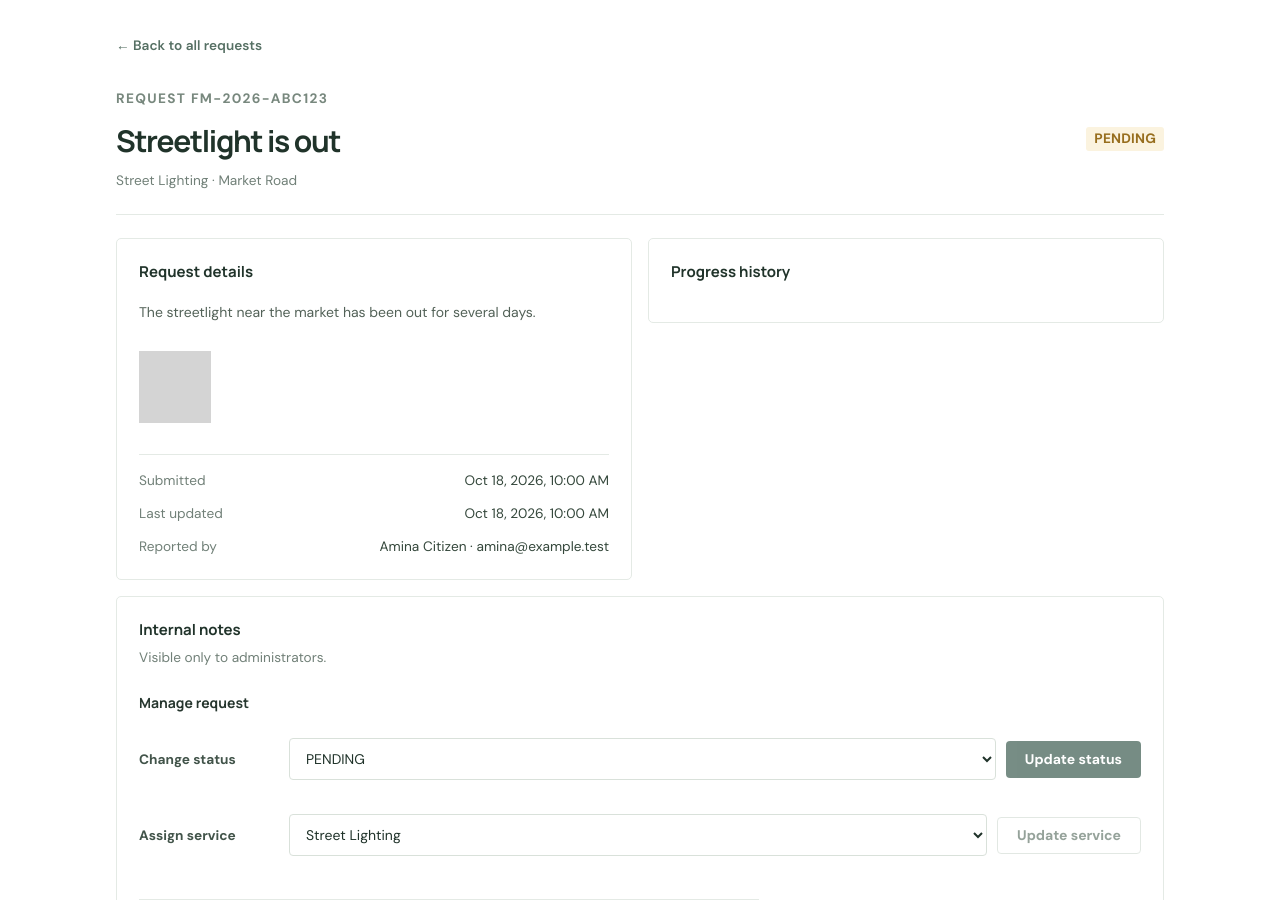
Test case: administrator request controls › blocks duplicate status updates and reports failures
Expected: the heading "Manage request" is shown, x1=139 y1=693 x2=249 y2=712
Select "In progress" in the dropdown labelled "Change status". click: x=642, y=759
box: x1=289 y1=738 x2=996 y2=780
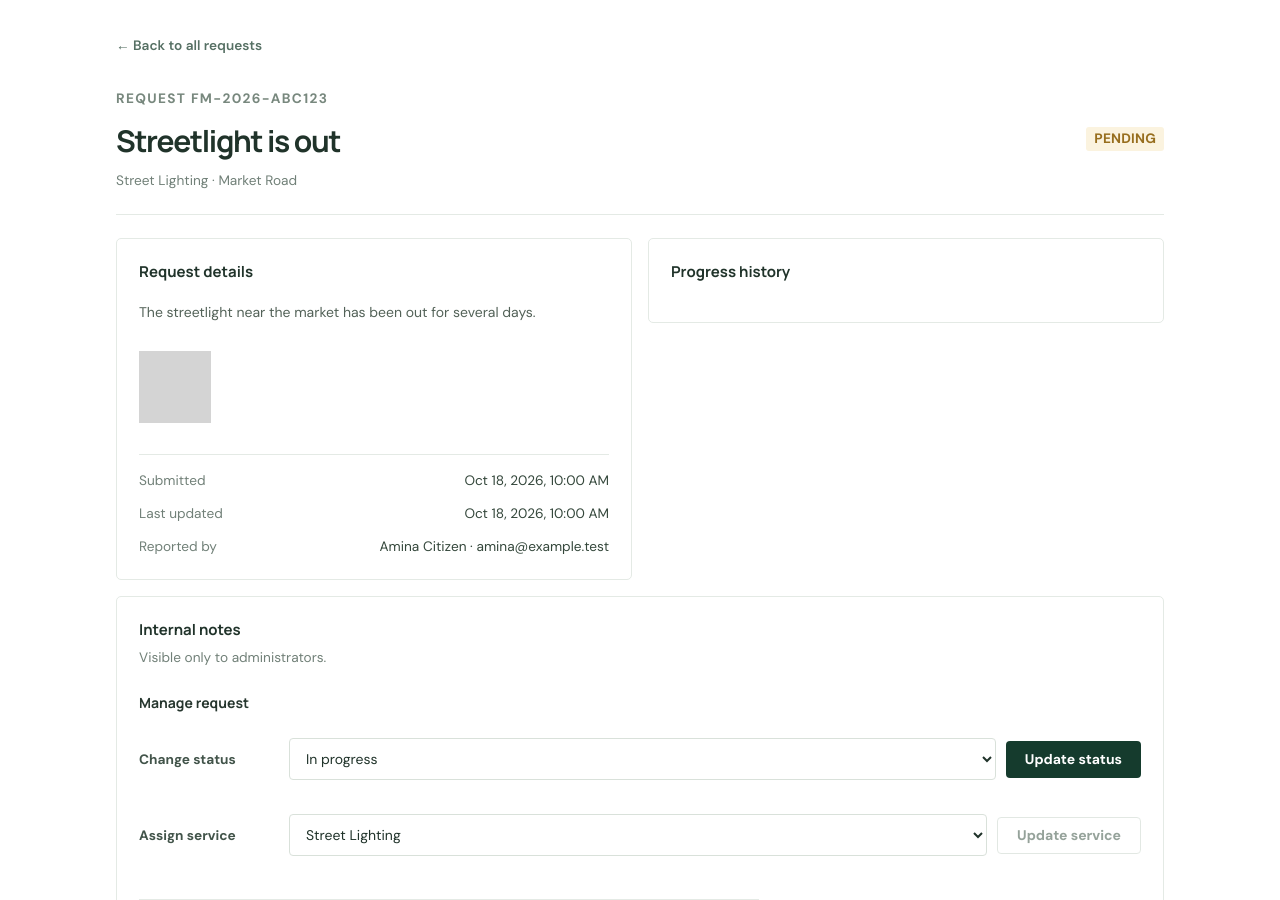
Click the button "Update status". click: x=1073, y=759
box: x1=1006 y1=741 x2=1141 y2=778
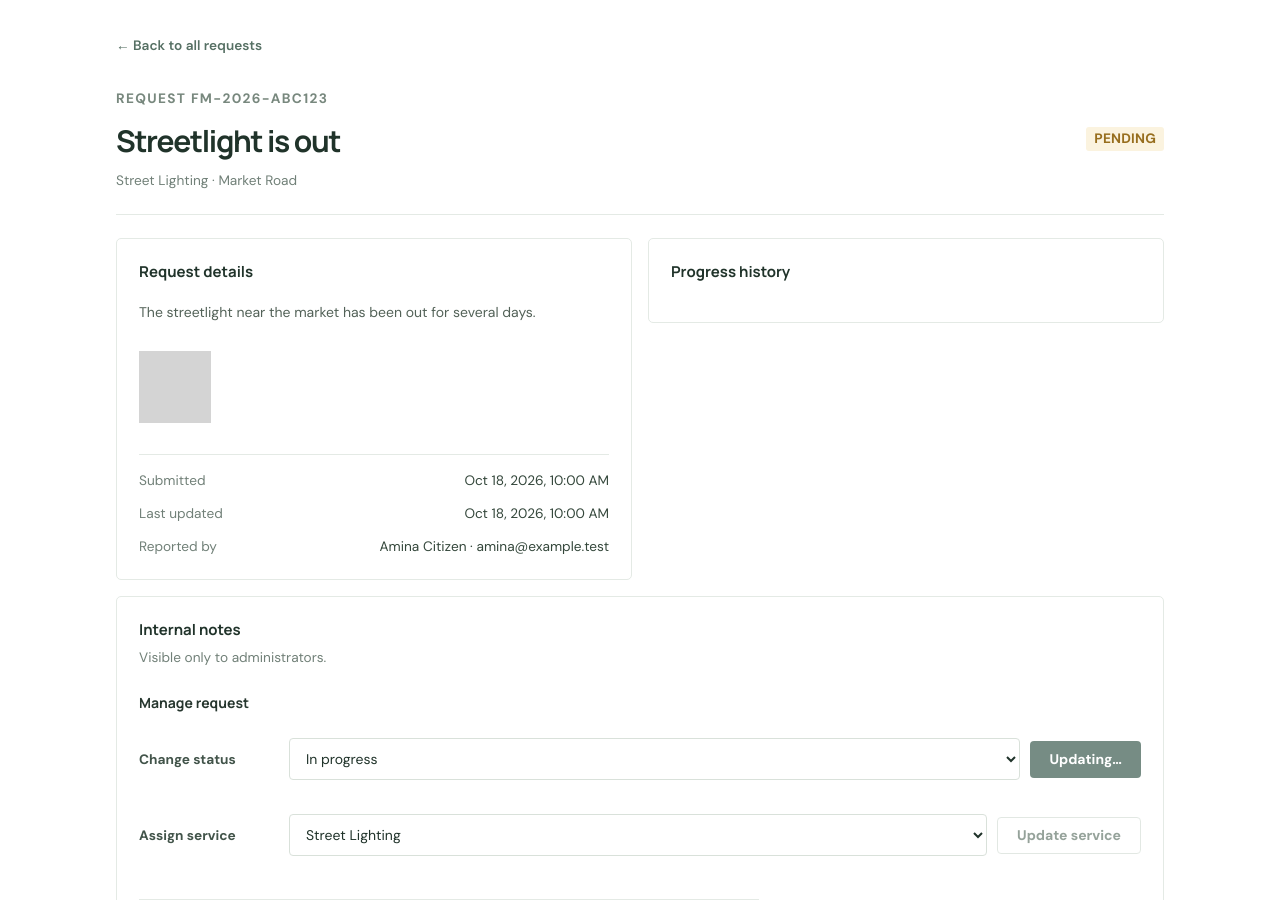
Click the button "Updating…". click: x=1086, y=759
box: x1=1030 y1=741 x2=1141 y2=778
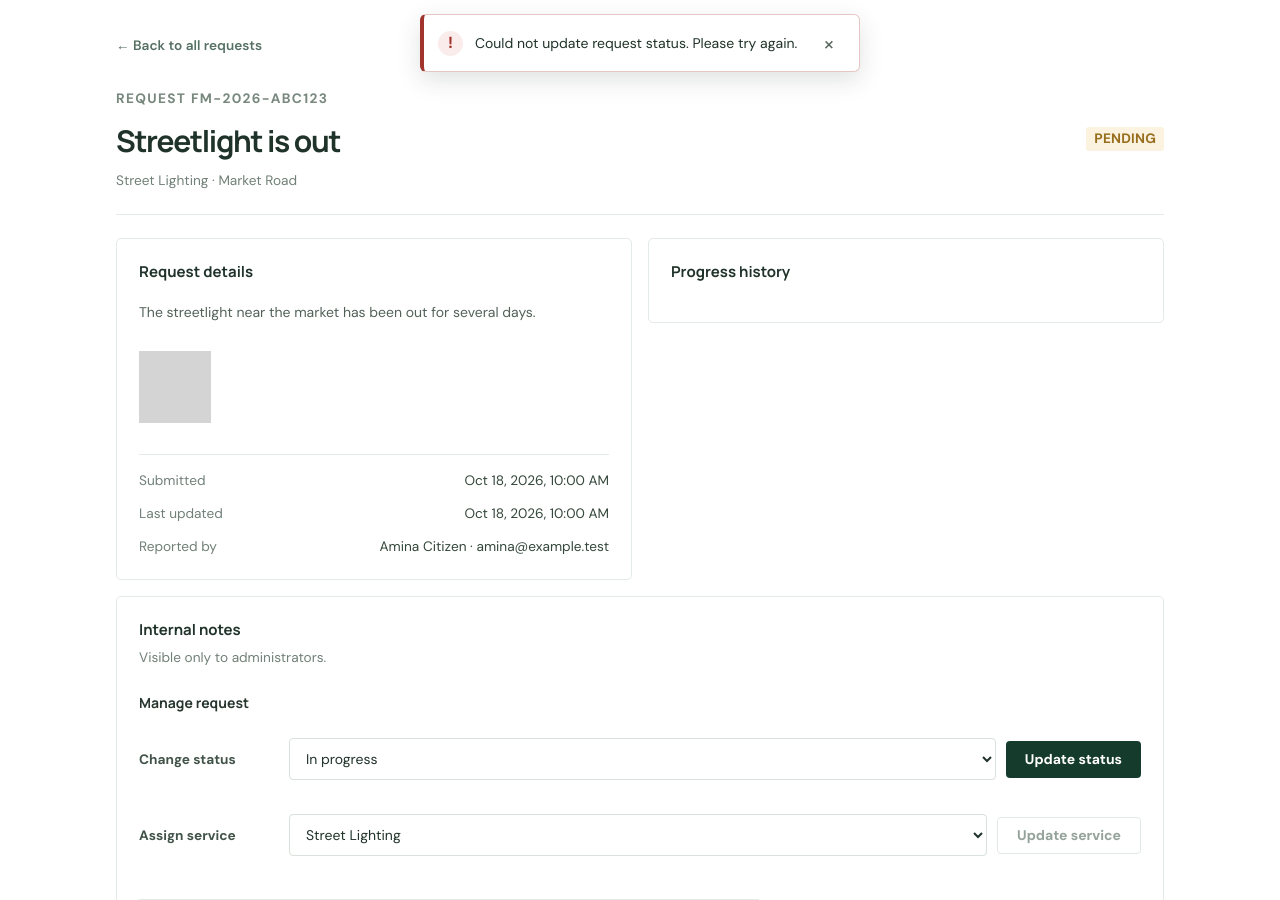
Expected: the text with class "status" reads "PENDING", x1=1094 y1=129 x2=1156 y2=147
Result: the message shows "Could not update request status. Please try again." at x1=475 y1=34 x2=797 y2=52
